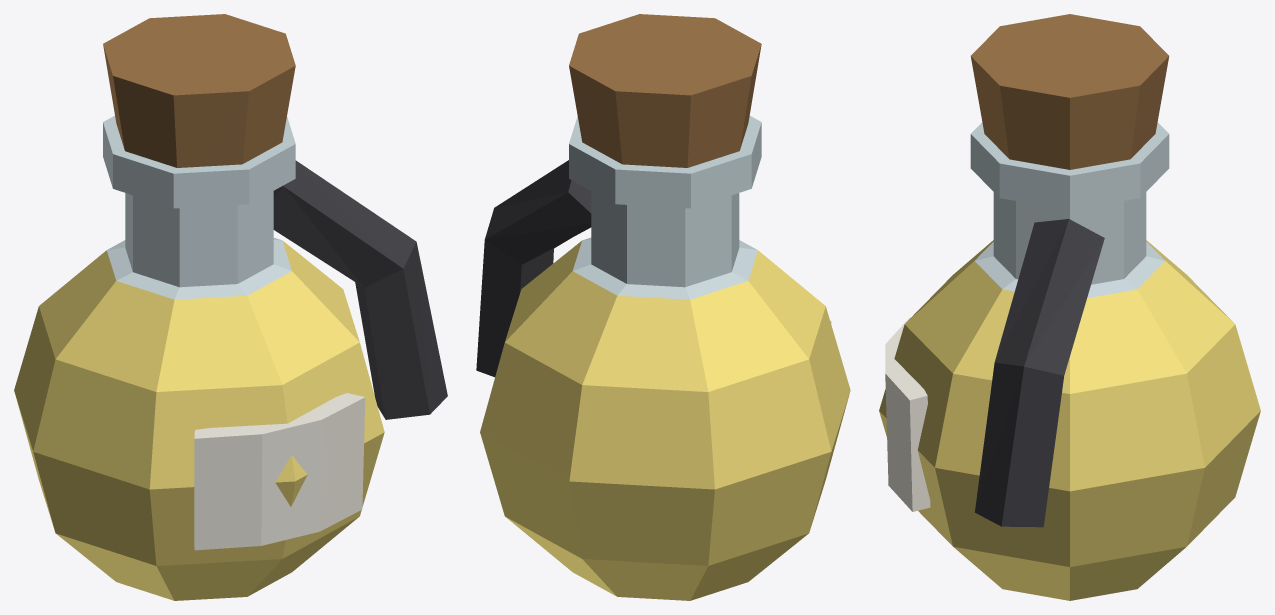
Rendered from vfem2_draught_inspiration.obj.
3 views of the same model, side by side, from view 1: azimuth 30°, elevation 25°; view 2: azimuth 150°, elevation 25°; view 3: azimuth 270°, elevation 25° (orthographic).
Parts seen in each view (by area): view 1: vfem2_draught_inspiration; view 2: vfem2_draught_inspiration; view 3: vfem2_draught_inspiration.
Boxes of the visible parts, x1,y1,x2,y2 form: vfem2_draught_inspiration: [14, 14, 447, 600]; vfem2_draught_inspiration: [476, 14, 850, 600]; vfem2_draught_inspiration: [879, 14, 1260, 600].
Bounding box in the file's own units: 0.2289 × 0.305 × 0.2.
